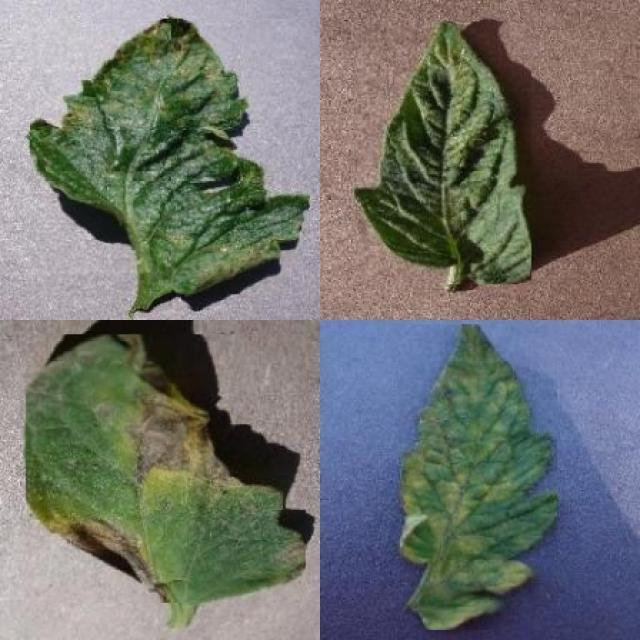Early Blight: (26, 334, 305, 602)
Leaf Mold: (399, 324, 557, 630)
Septoria: (30, 19, 309, 294)
Spider Mites: (354, 22, 532, 285)
